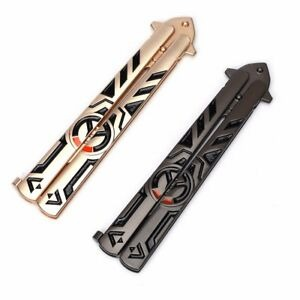knife: (91, 57, 279, 275), (7, 12, 199, 216)
